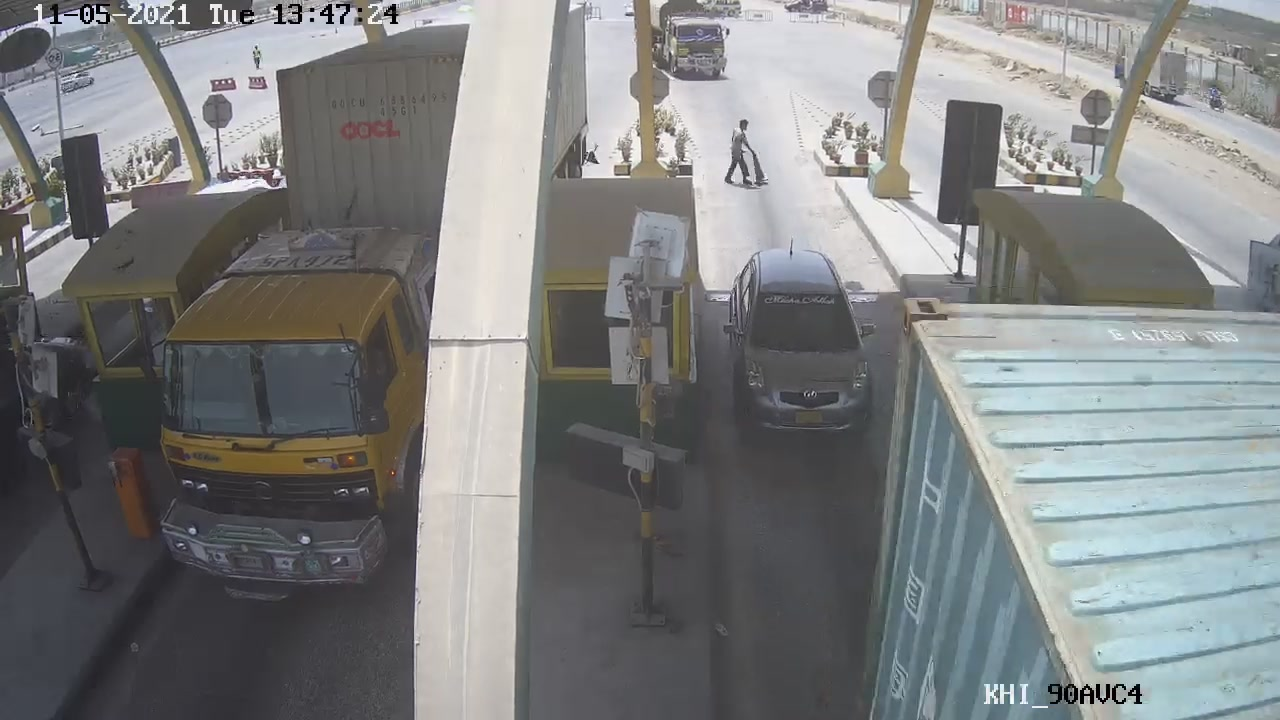F1: (719, 244, 892, 442)
